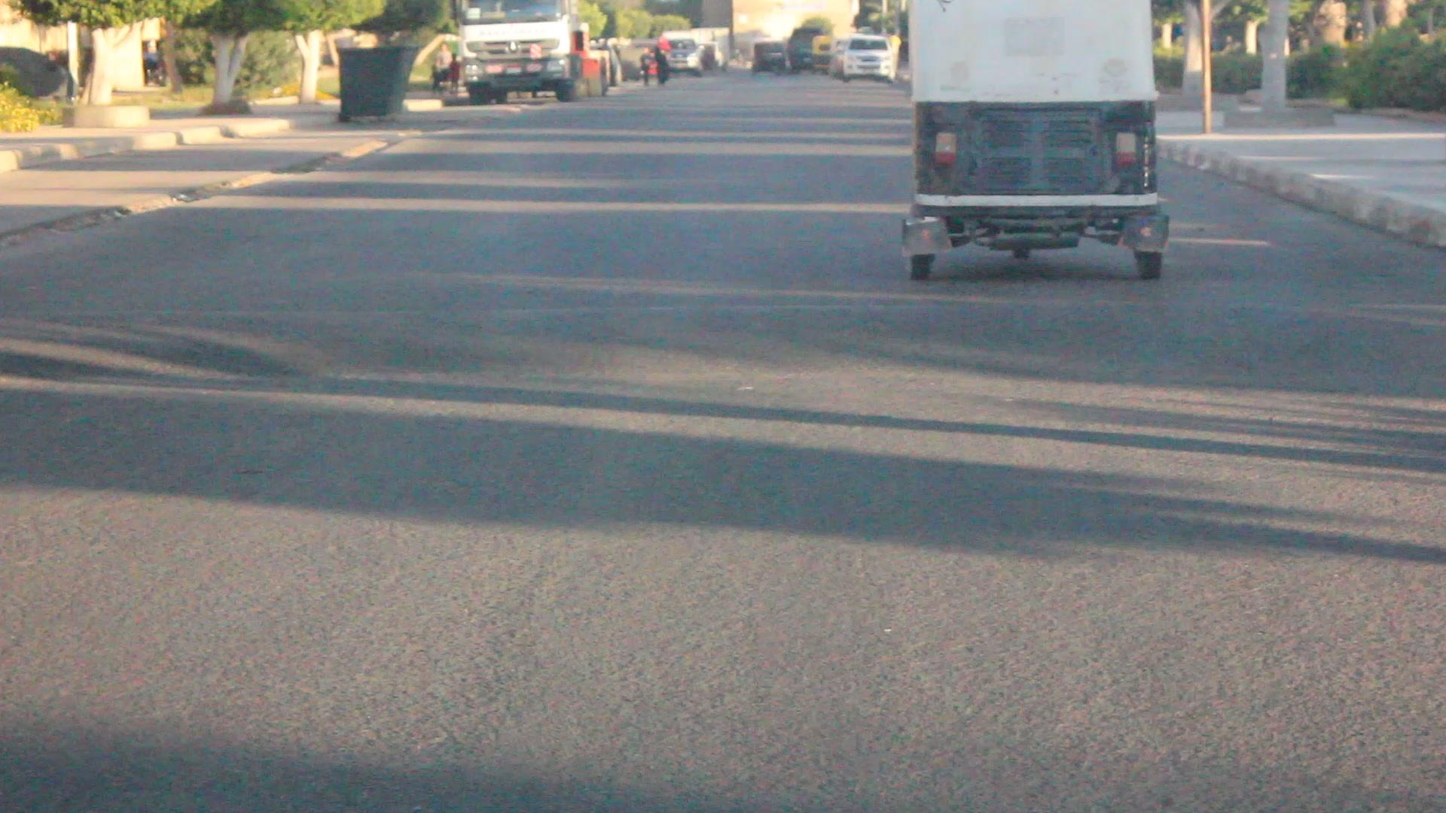Bump: (8, 309, 1446, 410)
